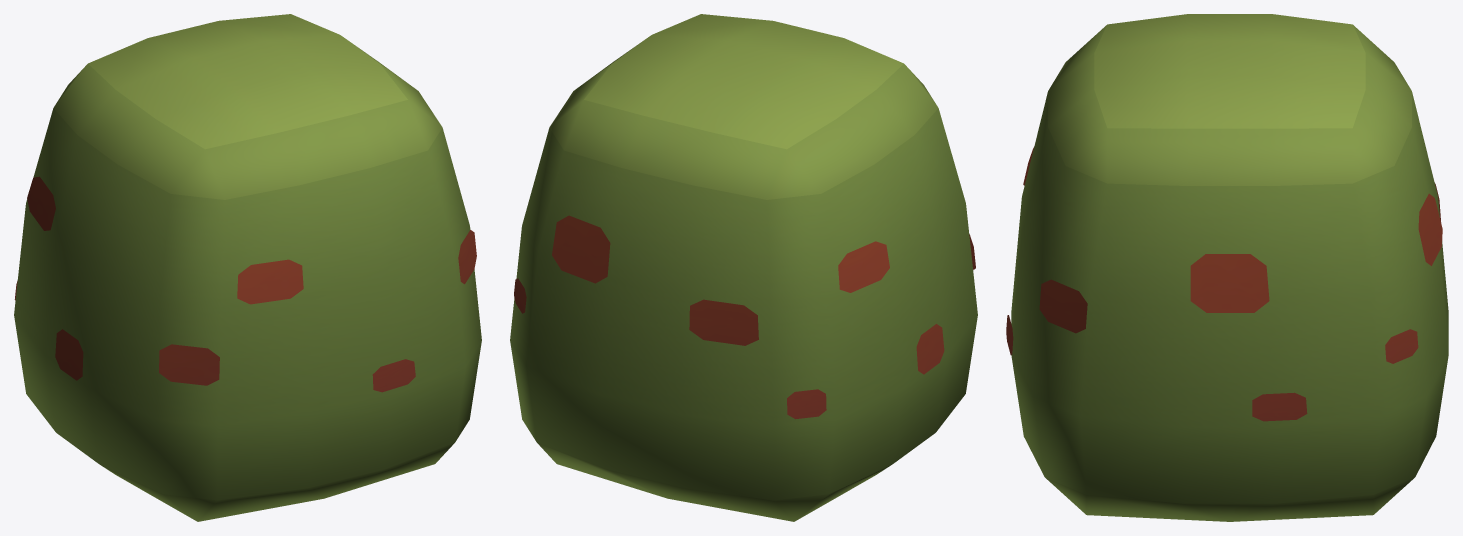
Rendered from bush_large_berries.fbx.
3 views of the same model, side by side, from view 1: azimuth 30°, elevation 25°; view 2: azimuth 150°, elevation 25°; view 3: azimuth 270°, elevation 25° (orthographic). The views are drawn at different scales.
Parts seen in each view (by area): view 1: bush_large_berries; view 2: bush_large_berries; view 3: bush_large_berries.
Boxes of the visible parts, box(x1,y1,x2,y2) form: bush_large_berries: box(14, 14, 481, 521); bush_large_berries: box(510, 14, 977, 521); bush_large_berries: box(1006, 14, 1448, 521).
Size of the model in its own units: 214 by 209 by 212.
